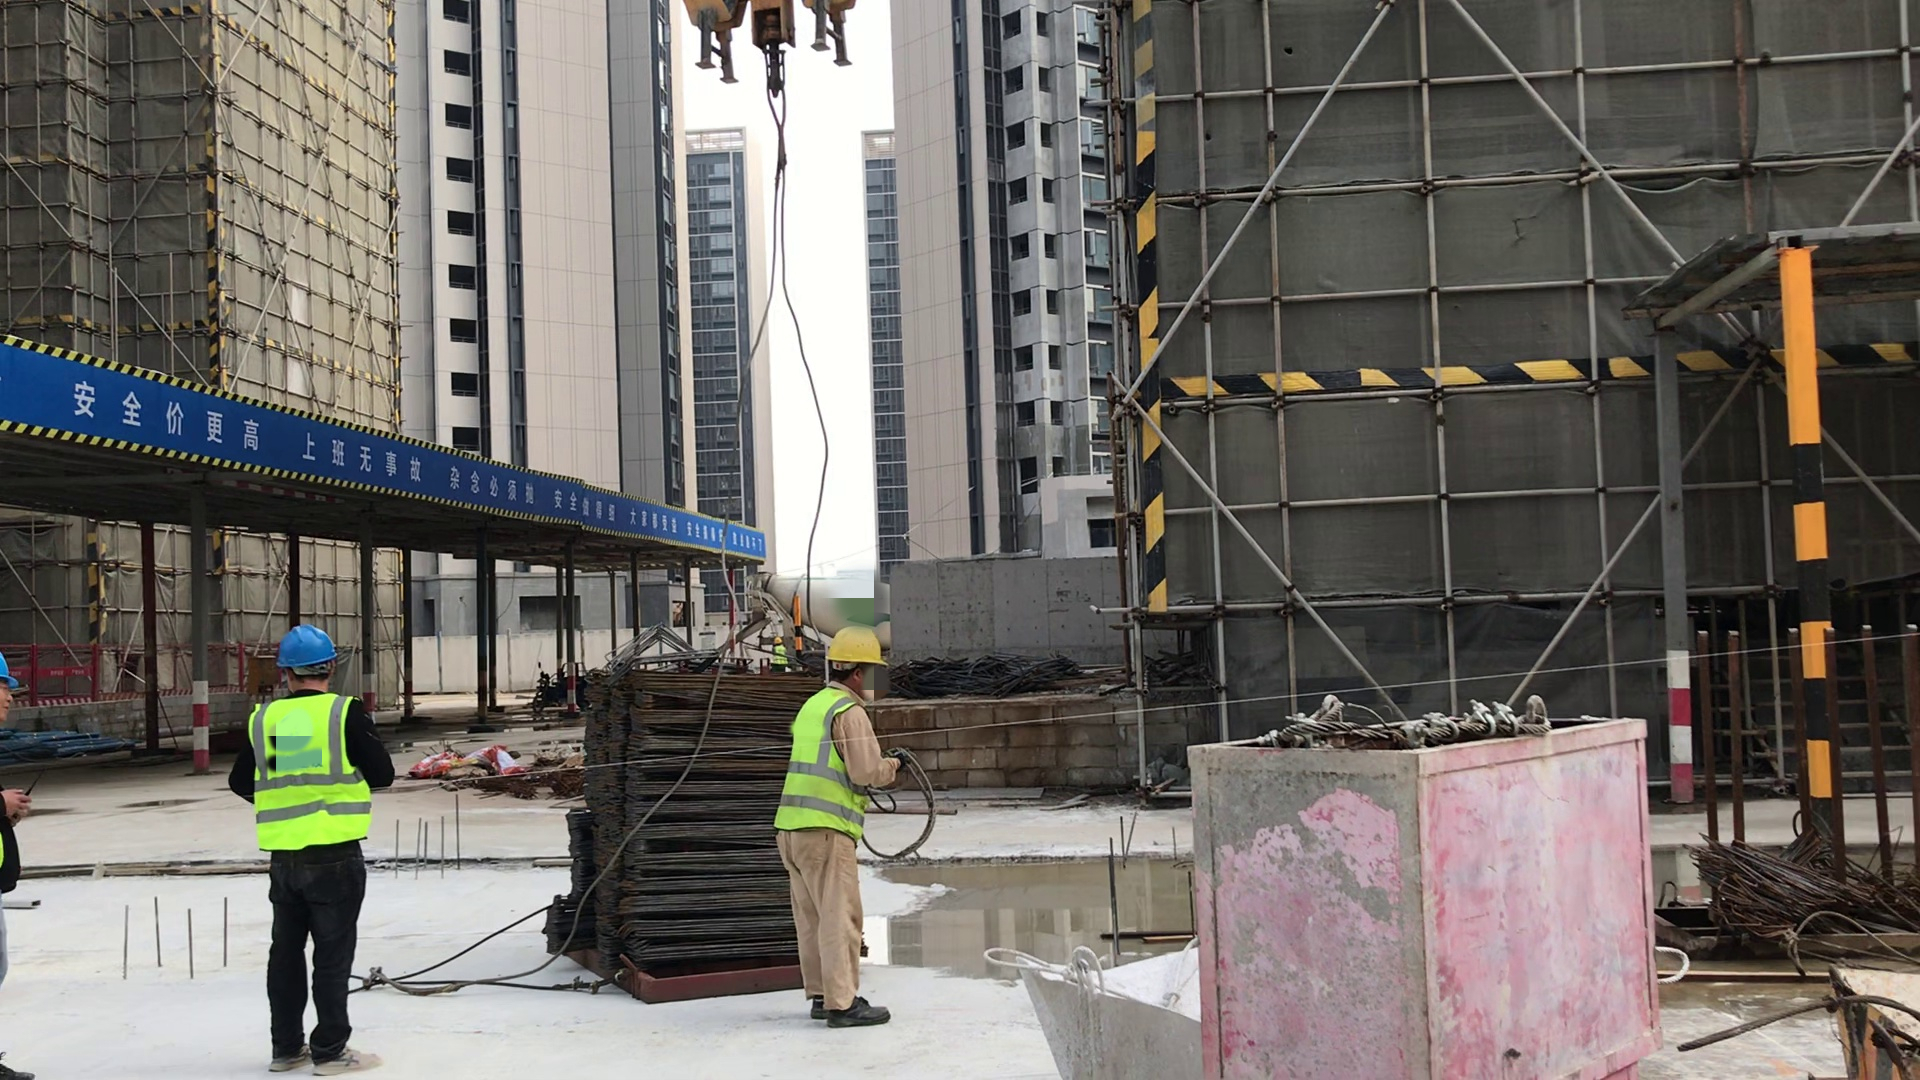ebox: (246, 654, 277, 688)
fence: (18, 641, 275, 706)
helmet: (275, 621, 344, 679), (824, 623, 891, 680), (772, 636, 783, 645)
hook: (677, 1, 860, 161)
hopper: (999, 934, 1218, 1080), (1800, 933, 1920, 1080)
person: (229, 619, 396, 1080), (786, 628, 901, 1036), (1, 652, 40, 1080), (768, 633, 789, 671)
vest: (249, 694, 371, 844), (786, 687, 868, 836), (774, 645, 786, 664)
